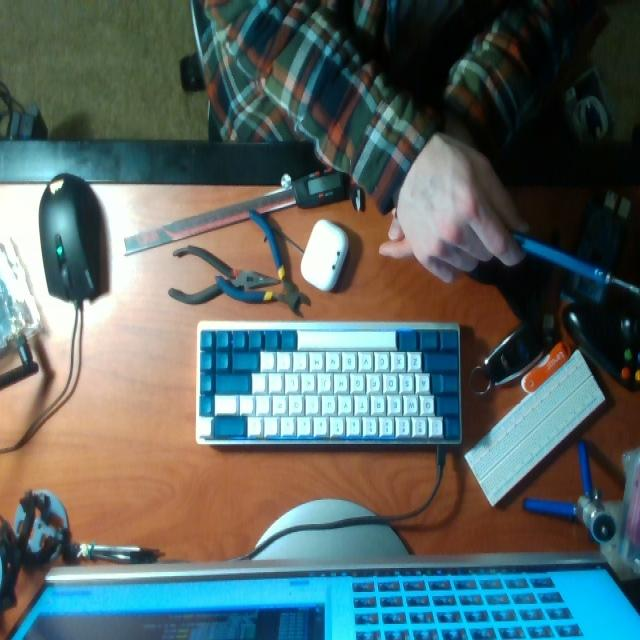keyboard: (197, 324, 460, 443)
